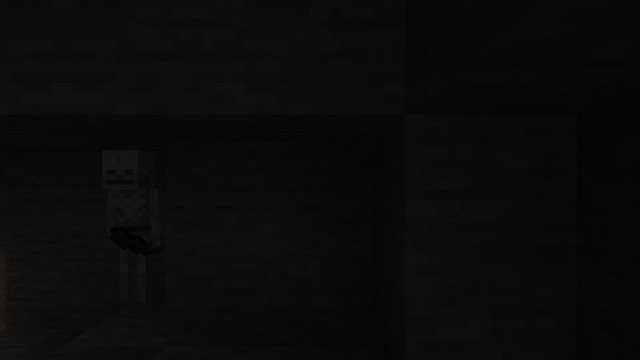squelettes: (95, 150, 160, 309)
